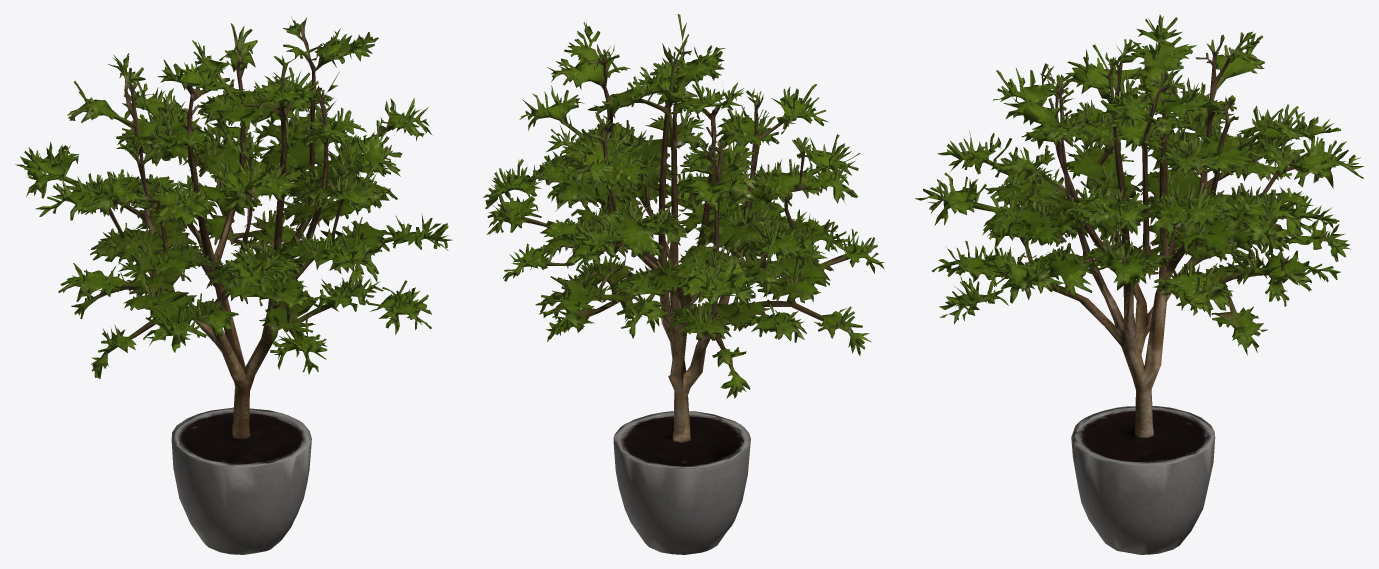
The model's file is tree_pot.glb.
3 views of the same model, side by side, from view 1: azimuth 30°, elevation 25°; view 2: azimuth 150°, elevation 25°; view 3: azimuth 270°, elevation 25° (orthographic). The views are drawn at different scales.
Visible parts, largest first — view 1: tripo_node_1b0d959a-7cf9-4ce7-a38e-07beb3e64792; view 2: tripo_node_1b0d959a-7cf9-4ce7-a38e-07beb3e64792; view 3: tripo_node_1b0d959a-7cf9-4ce7-a38e-07beb3e64792.
Part boxes in pixels (x1,y1,x2,y2): tripo_node_1b0d959a-7cf9-4ce7-a38e-07beb3e64792: (15, 16, 452, 554); tripo_node_1b0d959a-7cf9-4ce7-a38e-07beb3e64792: (483, 14, 884, 554); tripo_node_1b0d959a-7cf9-4ce7-a38e-07beb3e64792: (915, 14, 1364, 554).
Bounding box in the file's own units: 0.897 × 1.2 × 0.9685.
Materials: 1 (1 with a texture image).
